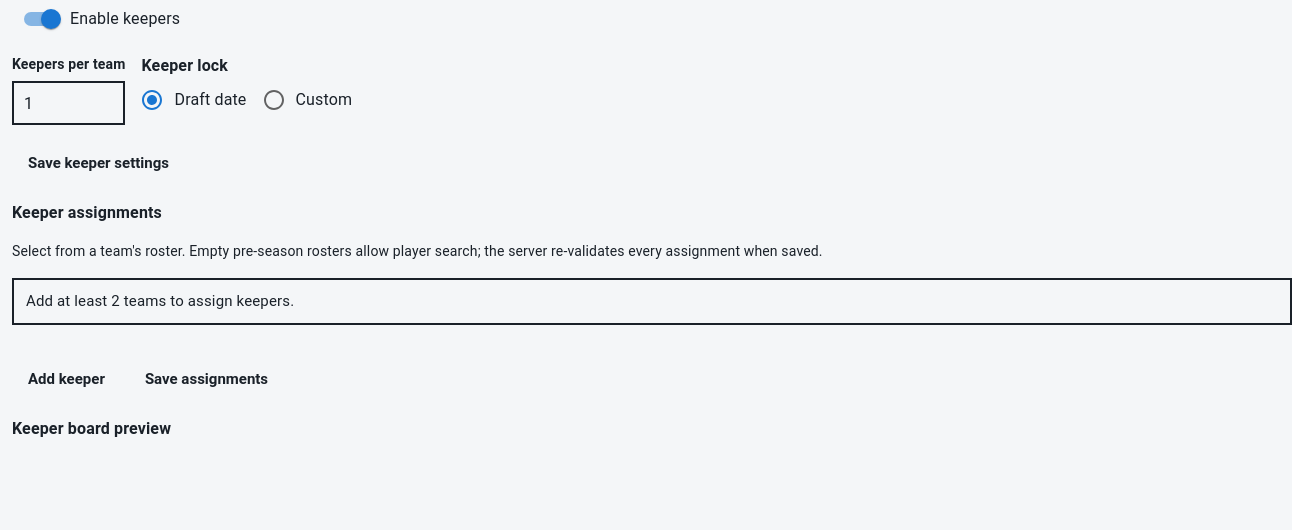
Scenario: heading levels (#704) › keeps "Keeper lock" as the radio group's label, not a heading, once the custom lock field appears
Click the radio button labelled "Custom". click: coordinates (307, 100)
box: 262,88 -> 352,112
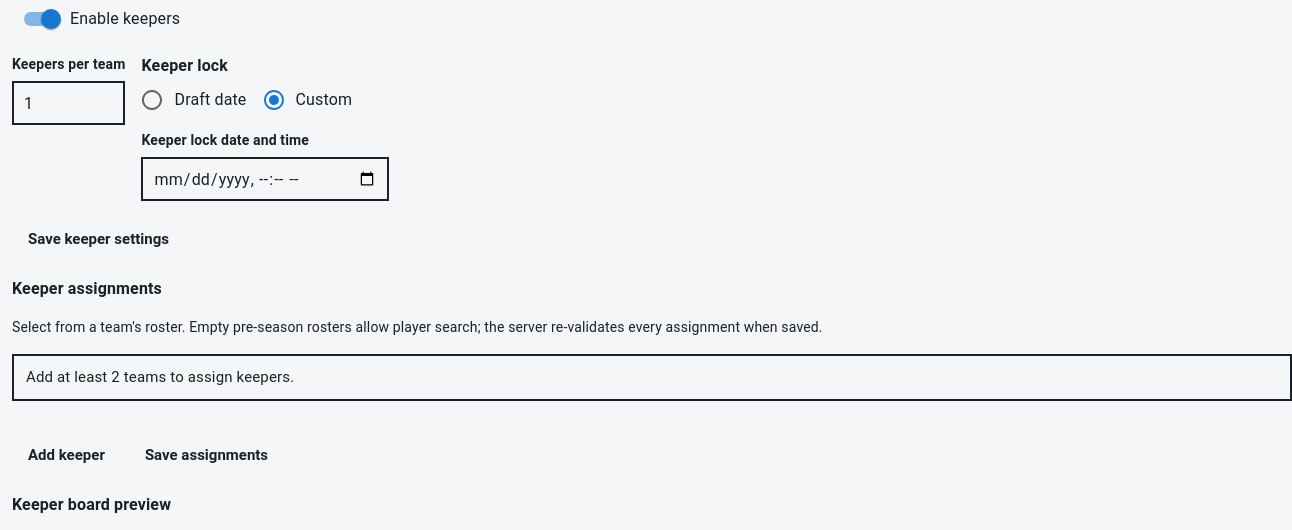
Expected: the element named "Keeper lock" is shown, 140,88 -> 352,112
Expected: the field labelled "Keeper lock date and time" is shown, 142,157 -> 390,201
